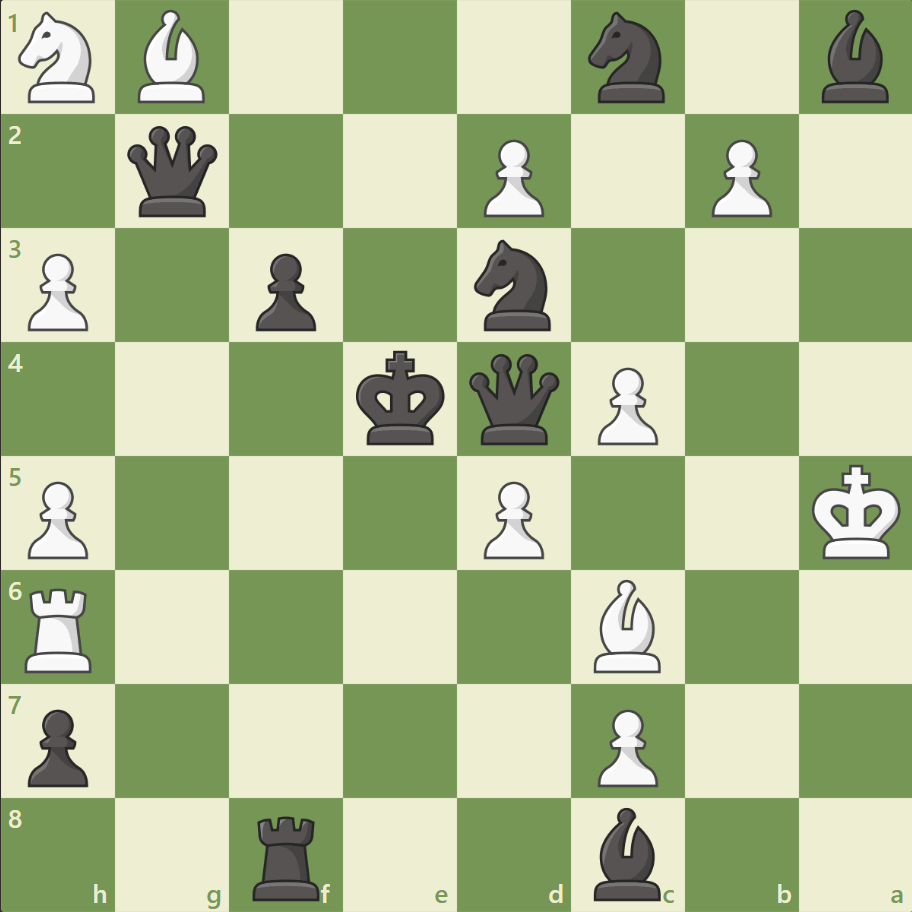B: (131, 6, 215, 109), (585, 574, 669, 676)
K: (806, 458, 906, 566)
N: (11, 7, 108, 110)
P: (474, 473, 549, 564), (20, 473, 95, 564), (20, 246, 95, 337), (701, 132, 776, 223), (474, 132, 549, 223), (588, 700, 662, 791), (588, 359, 662, 450)
R: (19, 579, 102, 676)
b: (585, 801, 669, 904), (812, 6, 896, 109)
k: (351, 344, 451, 452)
n: (465, 234, 562, 337), (579, 7, 676, 110)
p: (20, 700, 95, 791), (247, 246, 322, 337)
q: (464, 349, 563, 449), (124, 122, 223, 222)
r: (246, 806, 329, 904)
